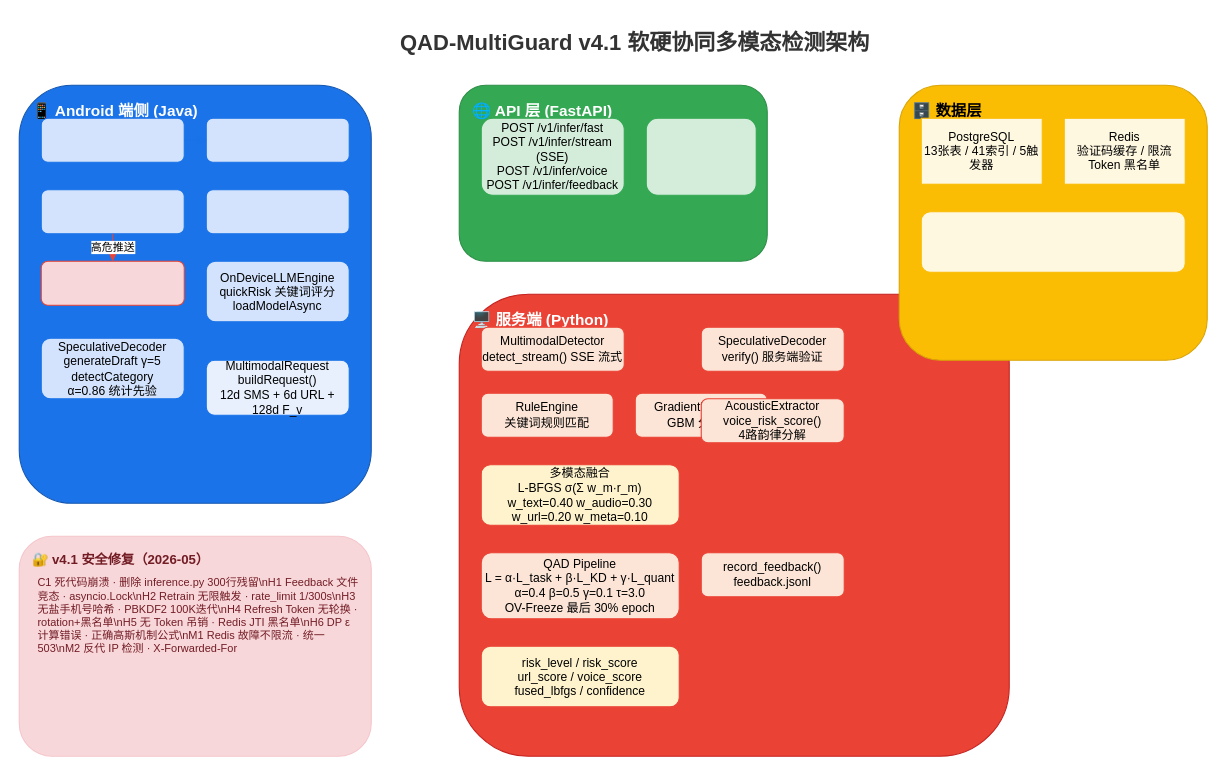
Image size: 1227x776. Some labels were removed from this diagram. The centre of each missing label's shape, as x and y in pixels:
AcousticEmbeddingExtractor 128维 F_v 声学嵌入: the point at 277,211
fraud_draft_q4km.gguf Qwen2.5-0.5B Q4_K_M 240MB 24层 896隐藏维: the point at 1052,241
NotificationHelper 高危立即通知: the point at 112,282
quickScore/quickRiskLevel <5ms 本地预警: the point at 112,211
rate_limit (Redis) JWT Auth (get_current_user): the point at 700,156
SmsFeatureExtractor Features.extract(): the point at 277,139
SmsReceiver 短信广播拦截: the point at 112,139
